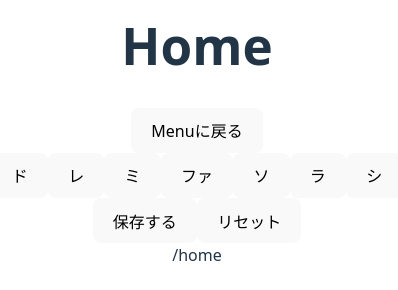
Test case: ファのボタンを押すと、楽譜にファが表示される
Click the button "ファ" at (197, 176), box x1=161 y1=153 x2=233 y2=198
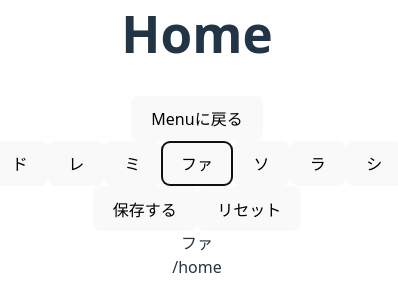
expect the element named "gakufu-board" reads "ファ": met, box x1=181 y1=232 x2=213 y2=254
